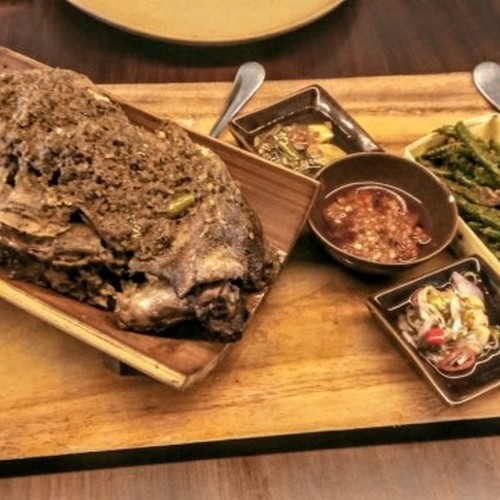bebek timbungan: (2, 62, 276, 361)
